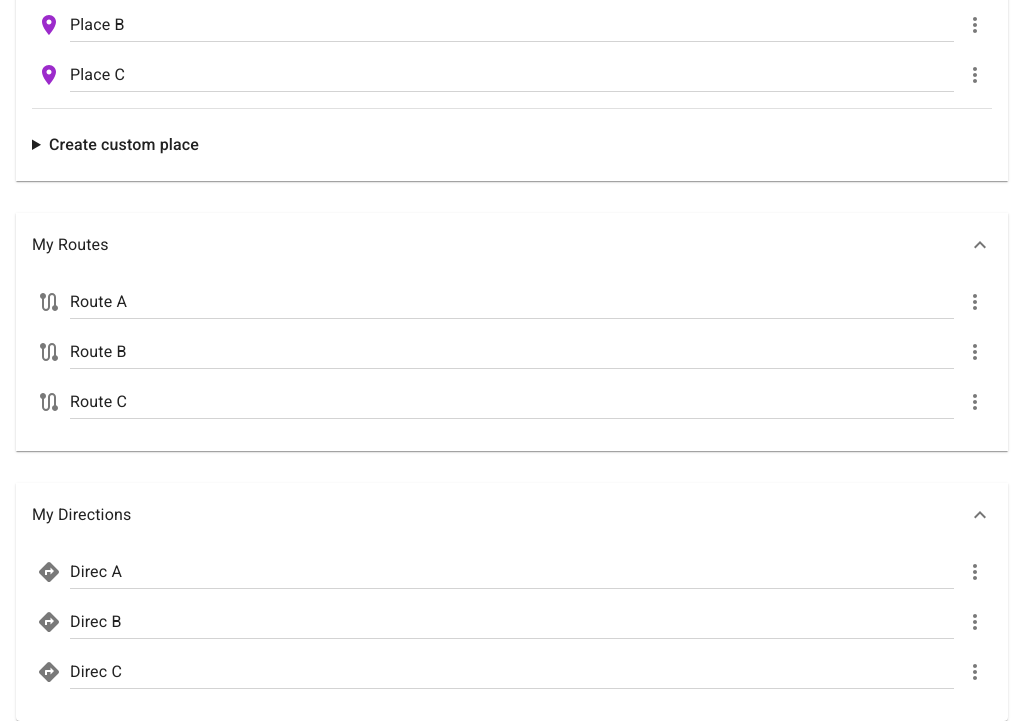
Test: <FavoritesPanel /> › direc › should allow the user to delete an item
This screenshot has width=1024, height=721.
(page scrolled)
Click the button named "Menu" in the row of "Direc B" at (975, 622), box left=958, top=605, right=992, bottom=639
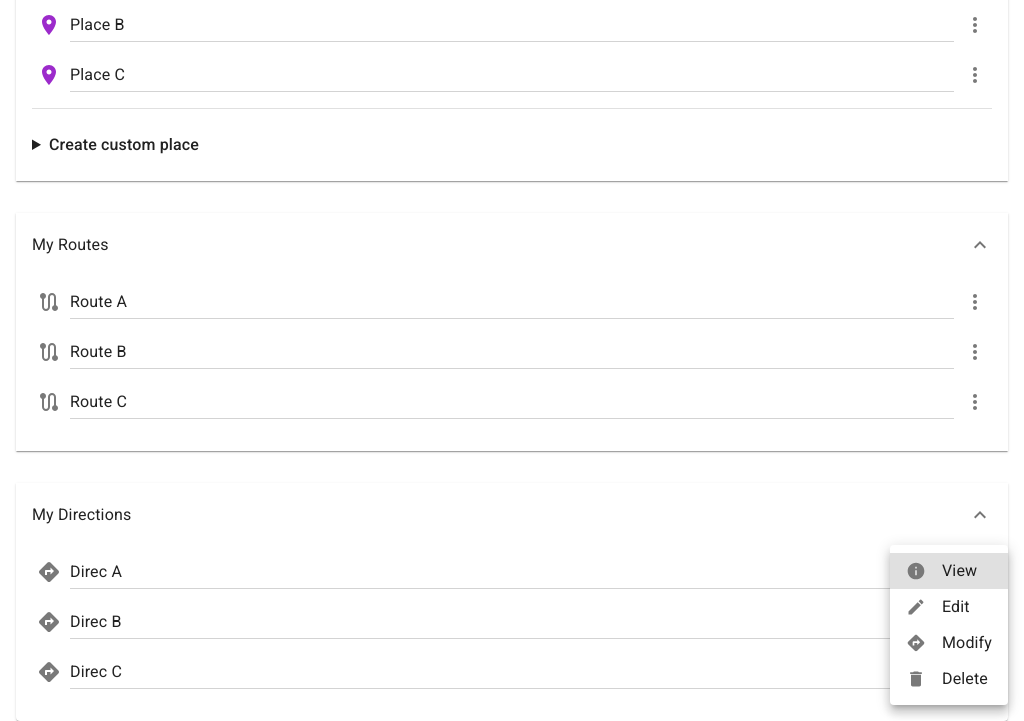
Click the menu item "Delete" at (947, 679), box left=906, top=669, right=988, bottom=689
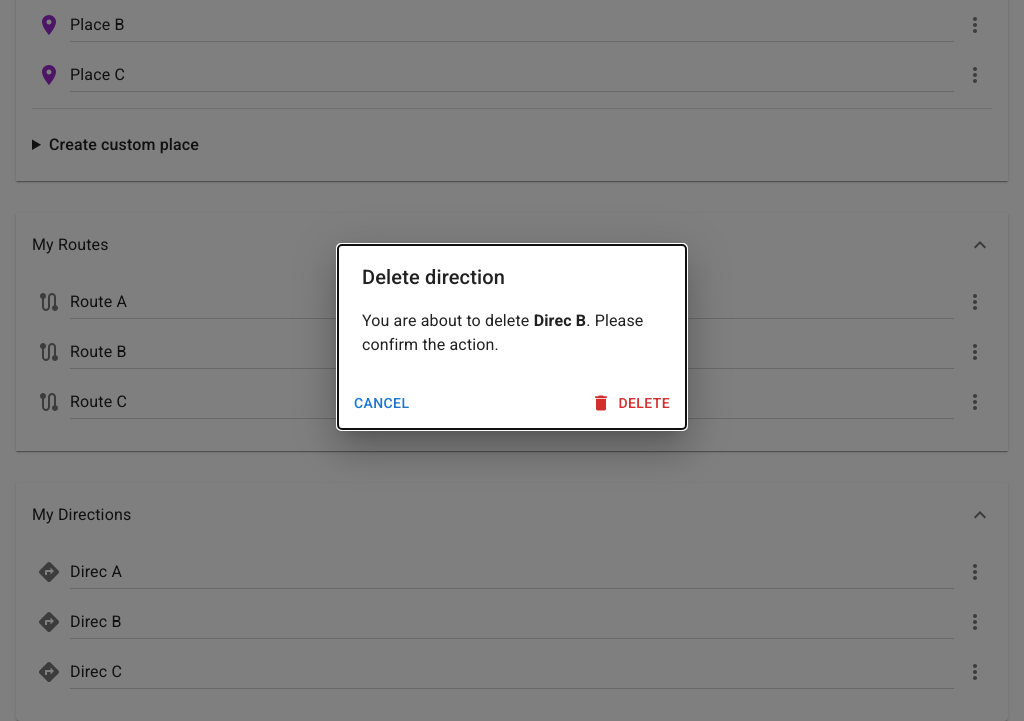
Click the button "Delete" at (632, 403), box left=586, top=385, right=678, bottom=421
(page scrolled)
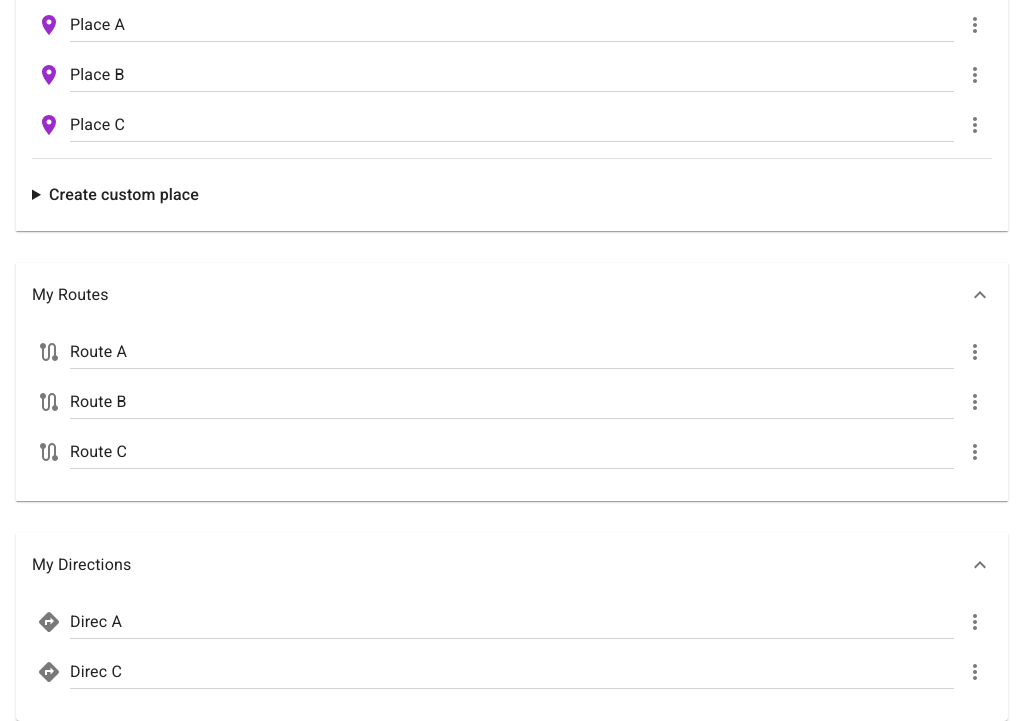
Expected: the text "Direc A" is shown, left=70, top=610, right=122, bottom=634
Now the dialog is gone
